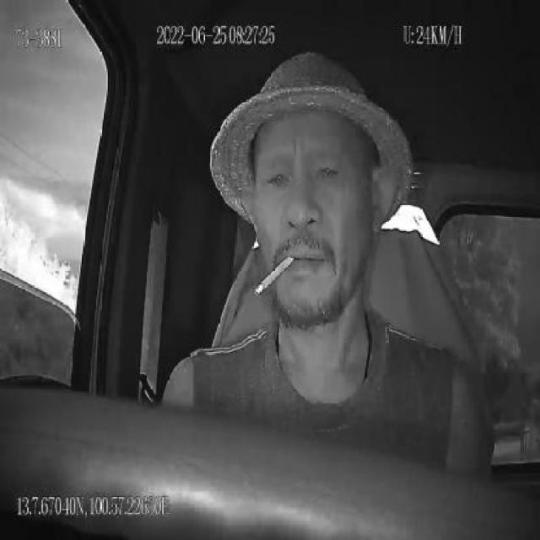smoking: (254, 253, 295, 299)
